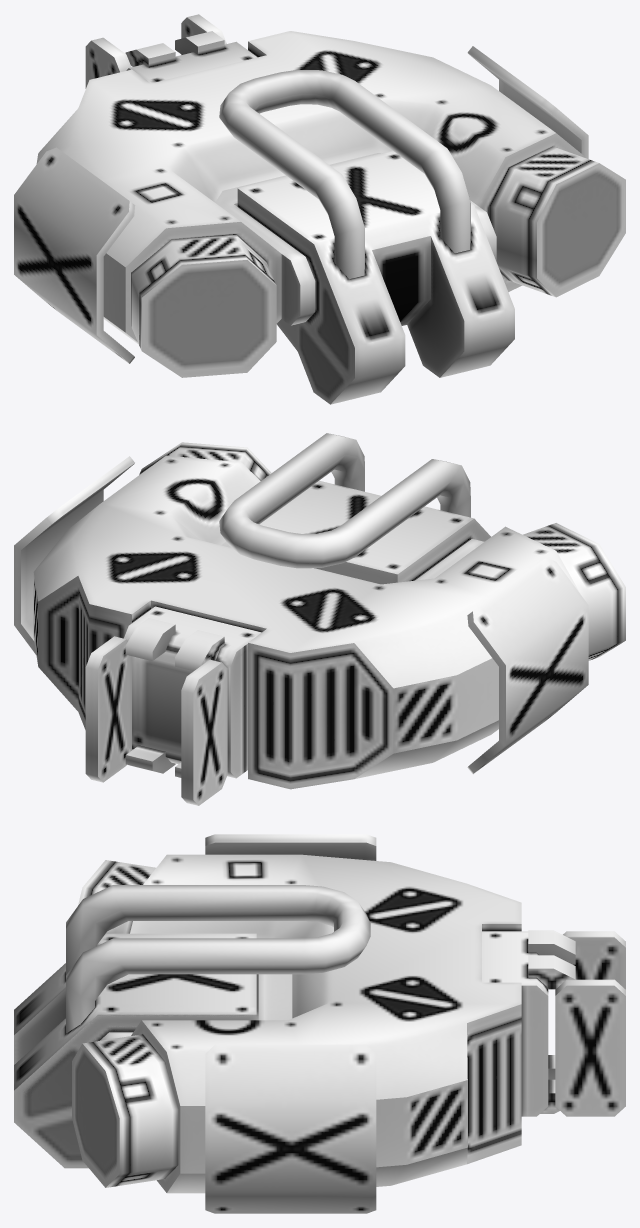
The model's file is Enemy_Deminer.FBX.
3 renders of one model, top to bottom at view 1: azimuth 30°, elevation 25°; view 2: azimuth 150°, elevation 25°; view 3: azimuth 270°, elevation 25°, orthographic. The views are drawn at different scales.
Parts seen in each view (by area): view 1: Enemy_Deminer, Enemy_Deminer_Up_Gun, Enemy_Deminer_Up_Armor, Enemy_Deminer_Up_Speed; view 2: Enemy_Deminer, Enemy_Deminer_Up_Armor, Enemy_Deminer_Up_Speed, Enemy_Deminer_Up_Gun; view 3: Enemy_Deminer, Enemy_Deminer_Up_Armor, Enemy_Deminer_Up_Gun, Enemy_Deminer_Up_Speed.
Part boxes in pixels (left/top/right/bottom): Enemy_Deminer: left=36, top=31, right=583, bottom=404; Enemy_Deminer_Up_Gun: left=131, top=146, right=625, bottom=377; Enemy_Deminer_Up_Armor: left=14, top=46, right=588, bottom=363; Enemy_Deminer_Up_Speed: left=85, top=14, right=226, bottom=88; Enemy_Deminer: left=33, top=433, right=580, bottom=789; Enemy_Deminer_Up_Armor: left=14, top=456, right=588, bottom=773; Enemy_Deminer_Up_Speed: left=85, top=618, right=227, bottom=805; Enemy_Deminer_Up_Gun: left=139, top=442, right=625, bottom=660; Enemy_Deminer: left=14, top=854, right=548, bottom=1193; Enemy_Deminer_Up_Armor: left=205, top=834, right=376, bottom=1213; Enemy_Deminer_Up_Gun: left=72, top=860, right=178, bottom=1187; Enemy_Deminer_Up_Speed: left=528, top=930, right=625, bottom=1116.
Bounding box in the file's own units: 187 × 74.54 × 195.
